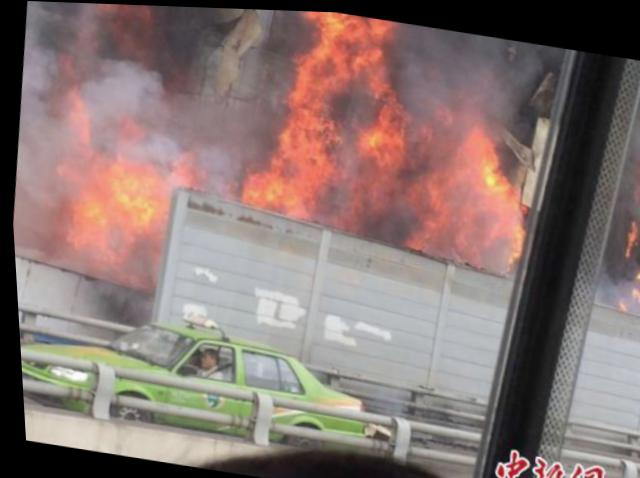fire: (54, 149, 169, 285), (268, 54, 341, 180), (404, 169, 478, 255), (353, 65, 409, 162), (298, 9, 390, 67), (236, 168, 321, 217), (473, 177, 525, 256), (457, 125, 500, 183), (634, 121, 639, 200)
